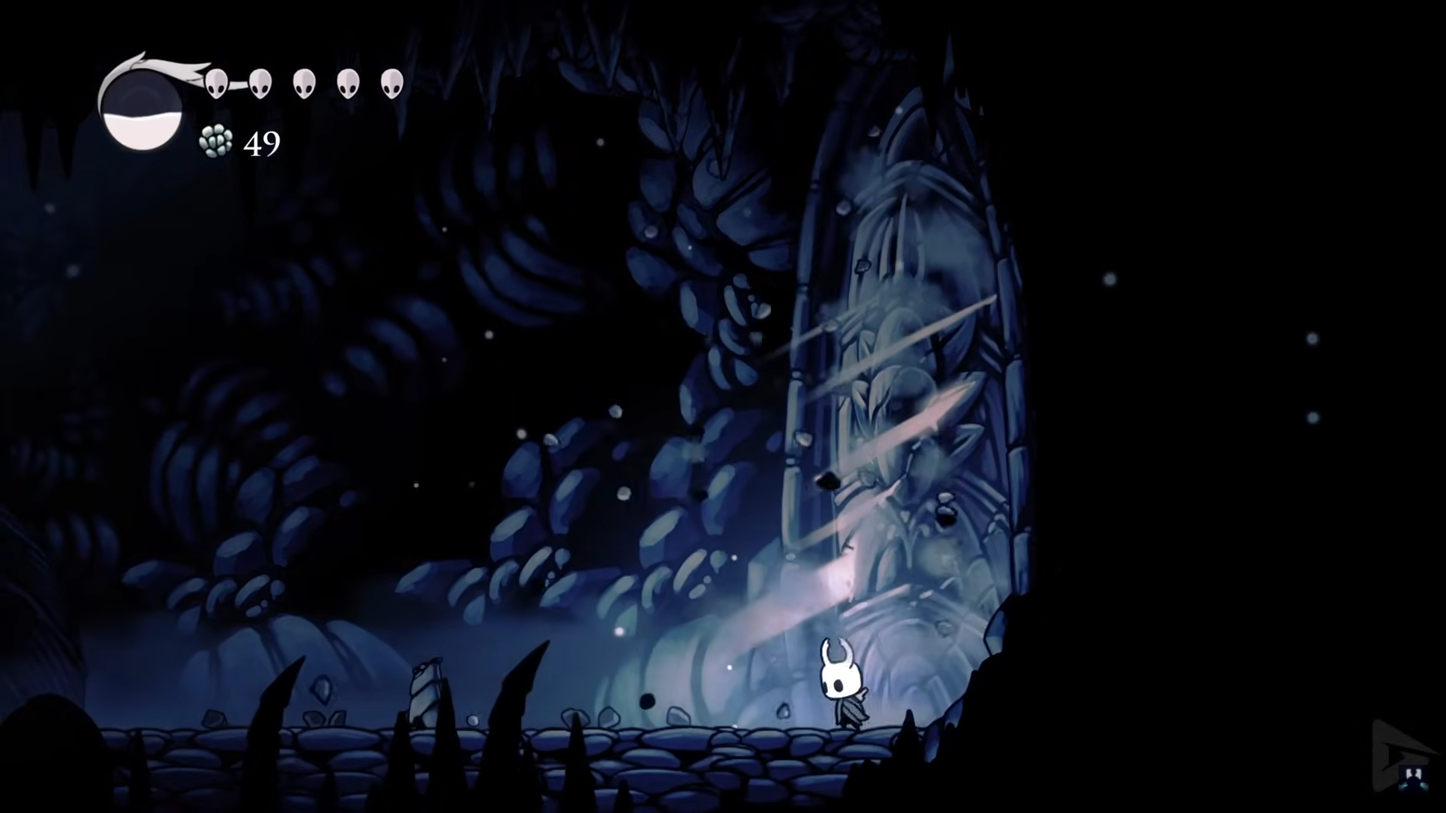HK: (813, 632, 871, 734)
